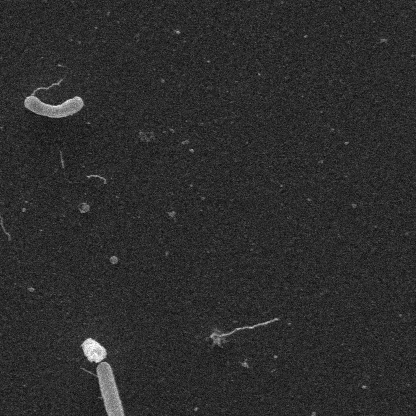cell2surface: (28, 75, 67, 96)
curved: (24, 93, 84, 120)
regular: (97, 363, 128, 416)
spheroplast: (78, 336, 107, 363)
